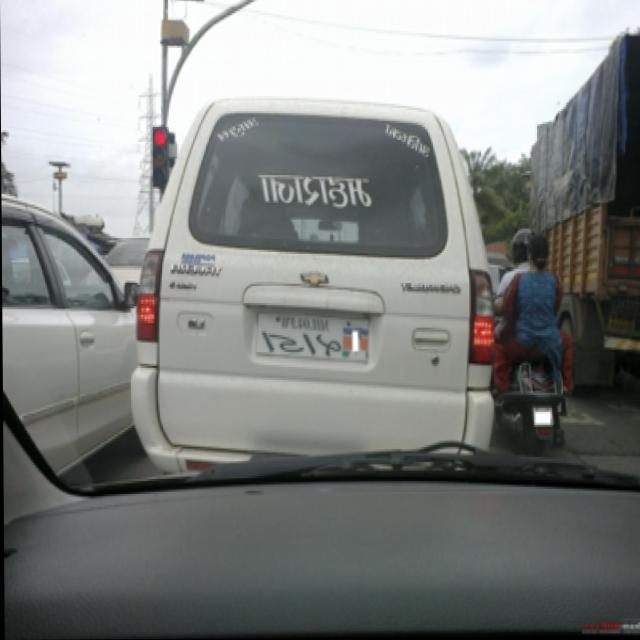licence: (256, 311, 375, 361)
